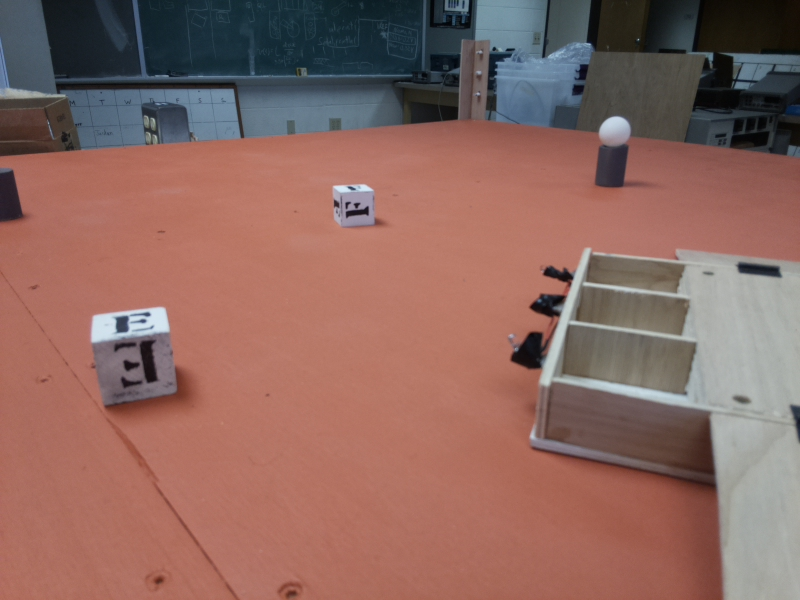blockE: (95, 308, 178, 406)
blockF: (333, 182, 380, 224)
corner: (459, 39, 493, 124)
obstacle: (591, 118, 640, 183)
side: (484, 249, 635, 459)
